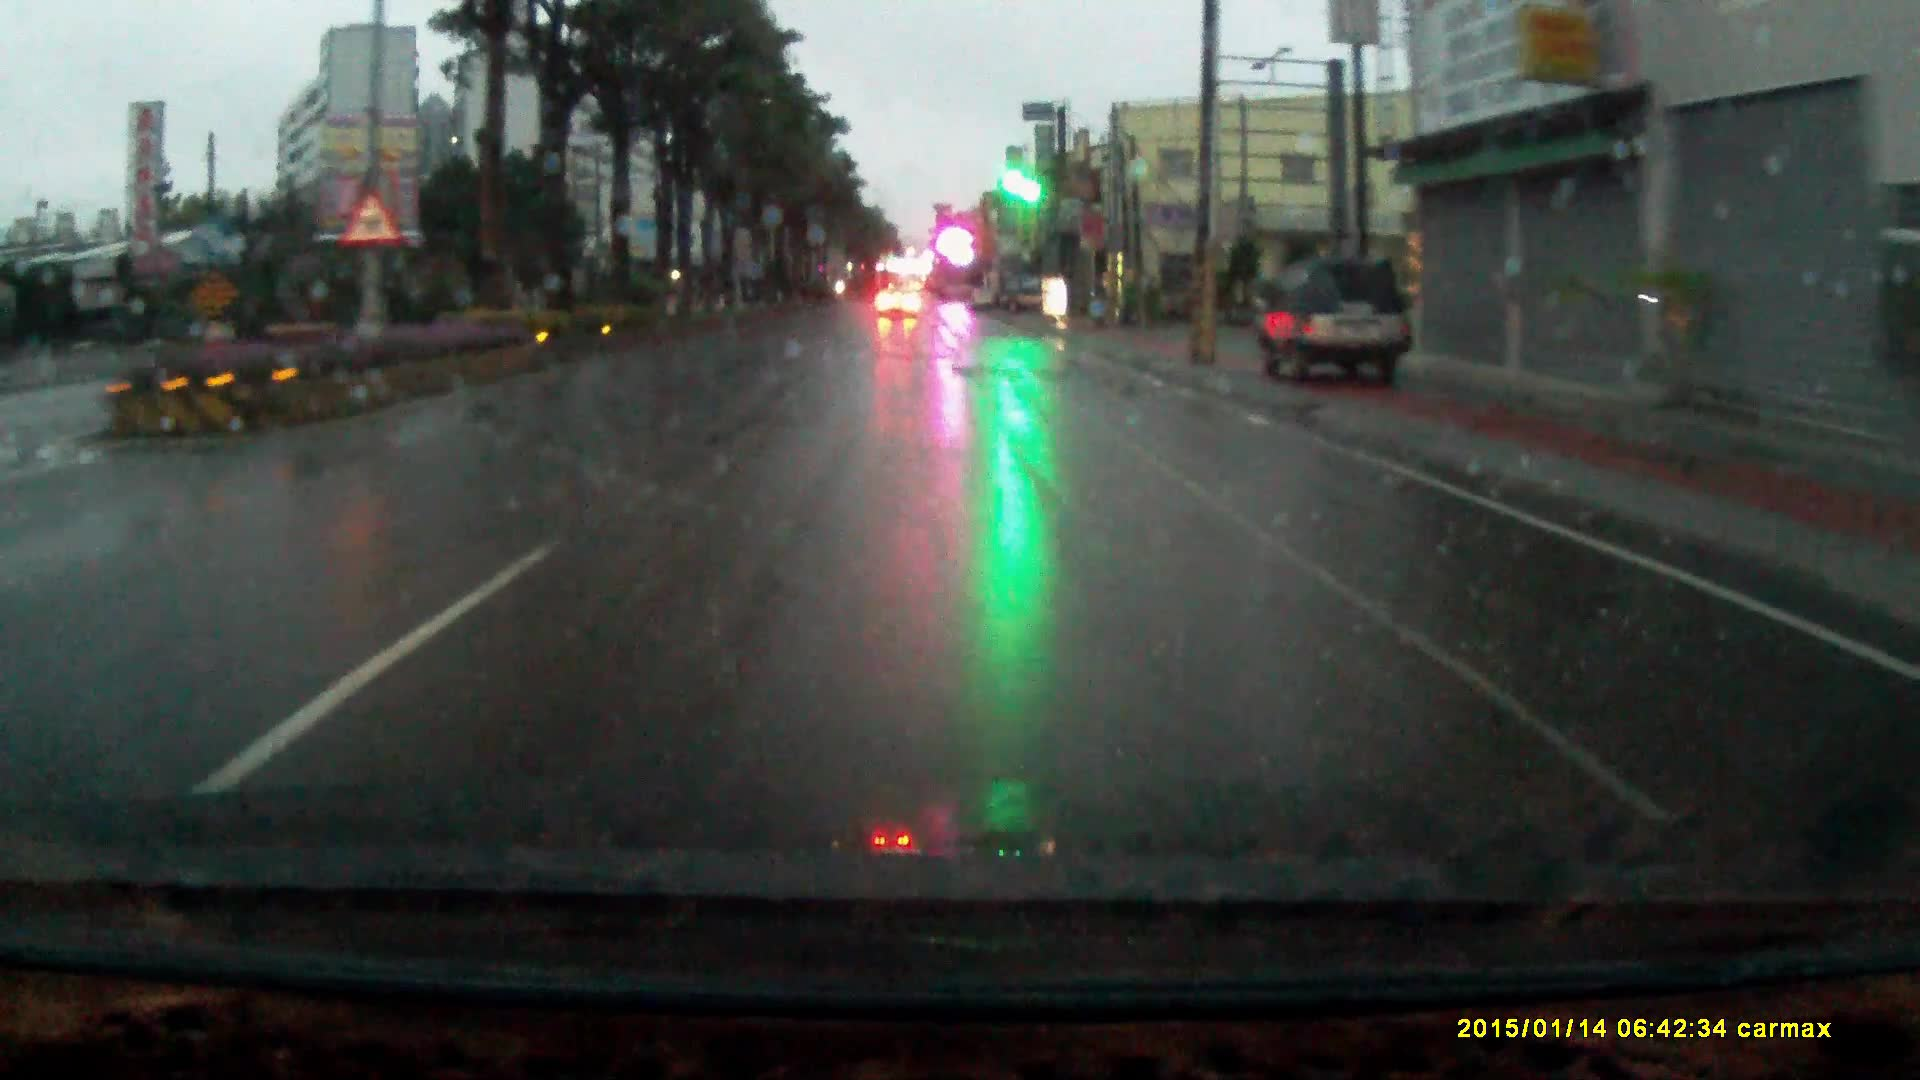vehicle: (1254, 270, 1418, 401), (876, 287, 920, 324)
